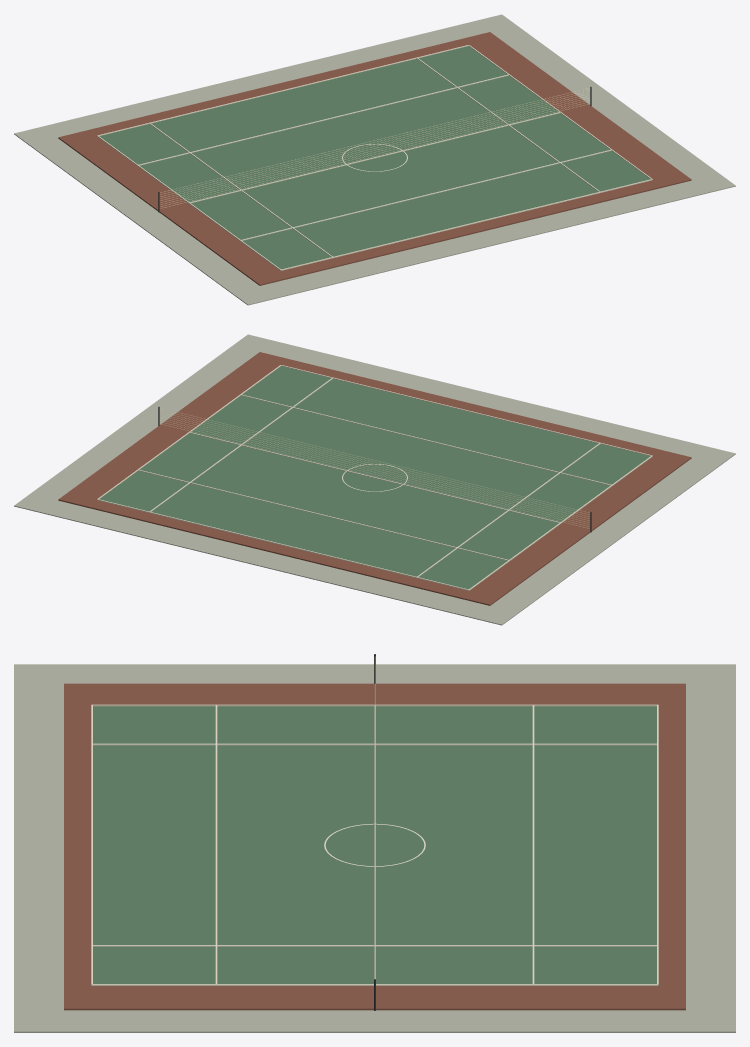
The model's file is tennis_C_south.glb.
The picture shows the model from 3 angles, top to bottom: view 1: azimuth 30°, elevation 25°; view 2: azimuth 150°, elevation 25°; view 3: azimuth 270°, elevation 25°; orthographic projection. The views are drawn at different scales.
Parts seen in each view (by area): view 1: Court_1_CourtInfield, PavedSurround, Court_1_CourtRed, Court_1_CourtLines, Court_1_NetMesh; view 2: Court_1_CourtInfield, PavedSurround, Court_1_CourtRed, Court_1_CourtLines, Court_1_NetMesh; view 3: Court_1_CourtInfield, PavedSurround, Court_1_CourtRed, Court_1_CourtLines, Court_1_NetMesh.
Boxes of the visible parts, x1,y1,x2,y2 form: Court_1_CourtInfield: (99, 46, 650, 269); PavedSurround: (14, 14, 735, 305); Court_1_CourtRed: (58, 32, 691, 285); Court_1_CourtLines: (97, 45, 652, 270); Court_1_NetMesh: (160, 88, 589, 208); Court_1_CourtInfield: (99, 366, 650, 589); PavedSurround: (14, 334, 735, 625); Court_1_CourtRed: (58, 352, 691, 605); Court_1_CourtLines: (97, 365, 652, 590); Court_1_NetMesh: (160, 408, 589, 528); Court_1_CourtInfield: (93, 706, 656, 983); PavedSurround: (14, 664, 735, 1032); Court_1_CourtRed: (64, 683, 685, 1010); Court_1_CourtLines: (91, 704, 658, 985); Court_1_NetMesh: (374, 656, 375, 978).
Size of the model in its own units: 56.34 by 2.3 by 46.79.
